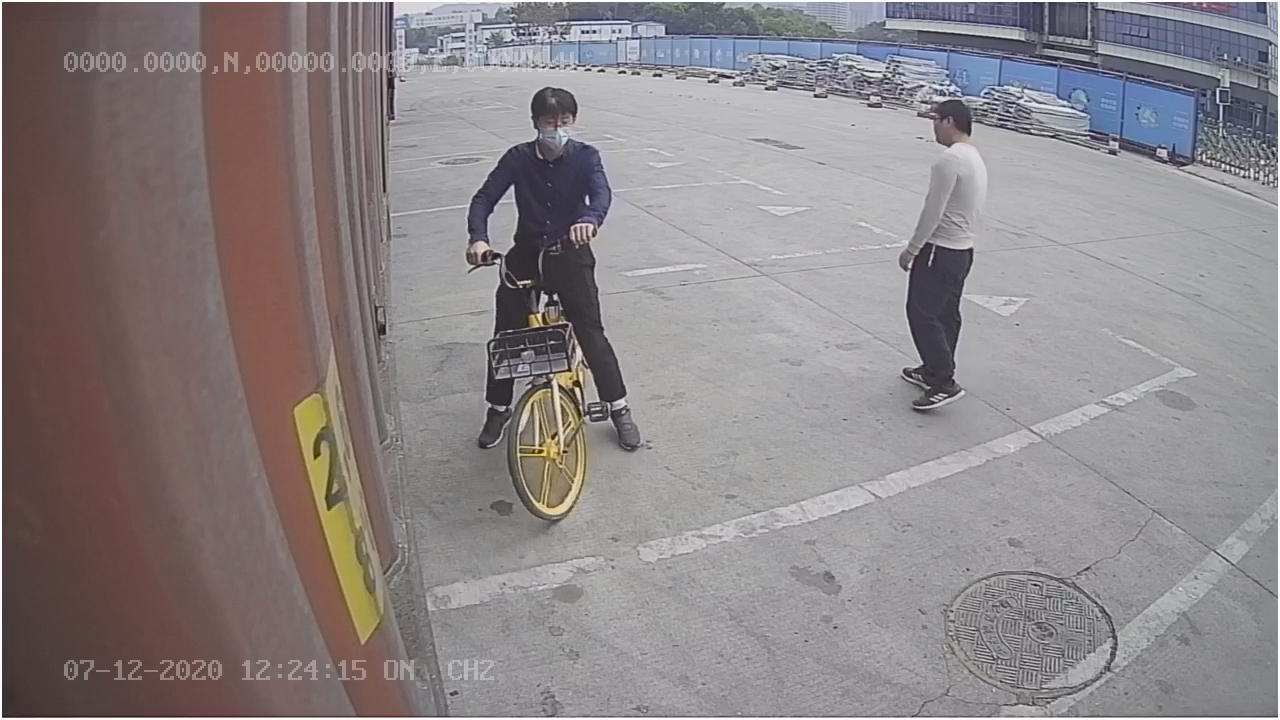person: (890, 97, 990, 415)
